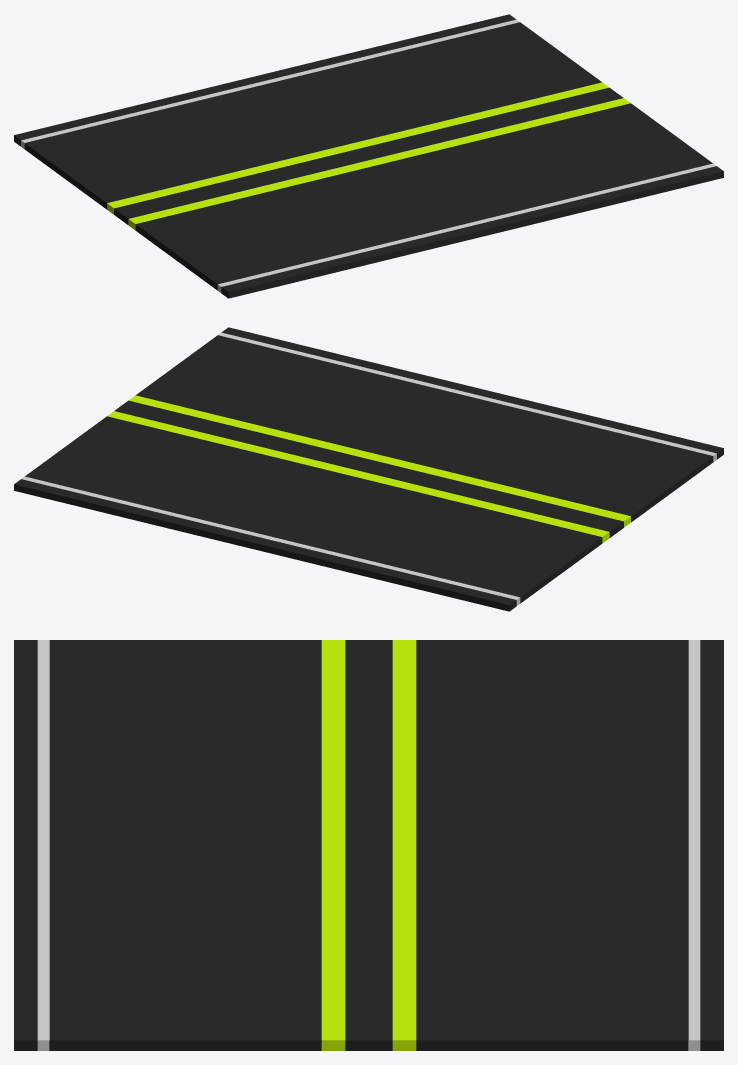
Rendered from road.obj.
The picture shows the model from 3 angles, top to bottom: view 1: azimuth 30°, elevation 25°; view 2: azimuth 150°, elevation 25°; view 3: azimuth 270°, elevation 25°; orthographic projection. The views are drawn at different scales.
Bounding box in the file's own units: 8 × 0.1 × 6.
1 material, 1 textured.
